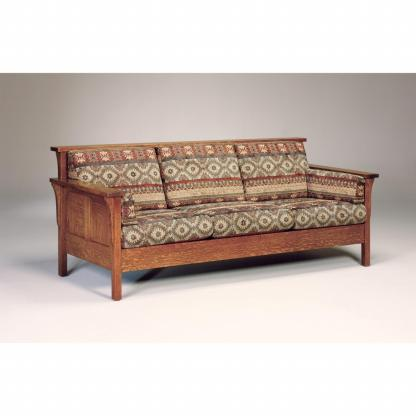Sofa: (50, 137, 381, 300)
